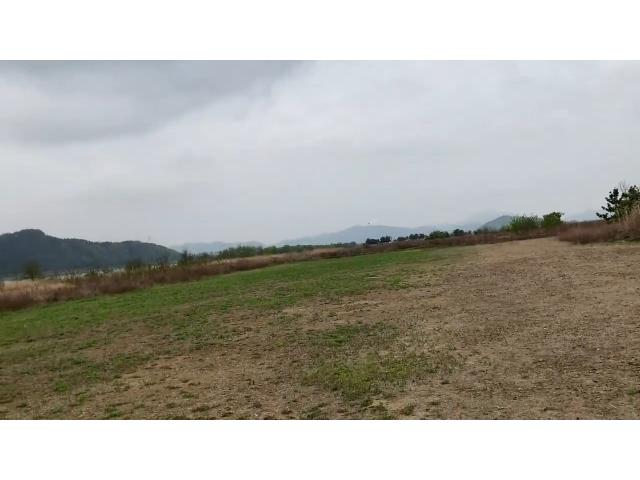Anti-Drone: (360, 212, 382, 230)
